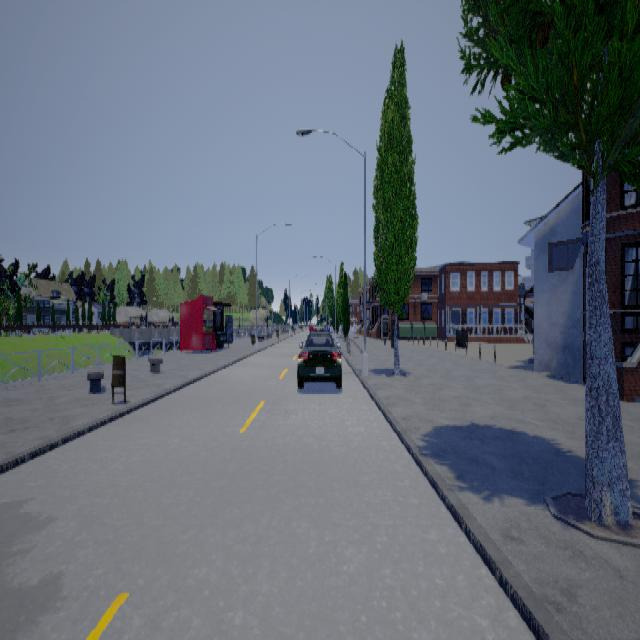vehicle: (296, 322, 341, 387)
